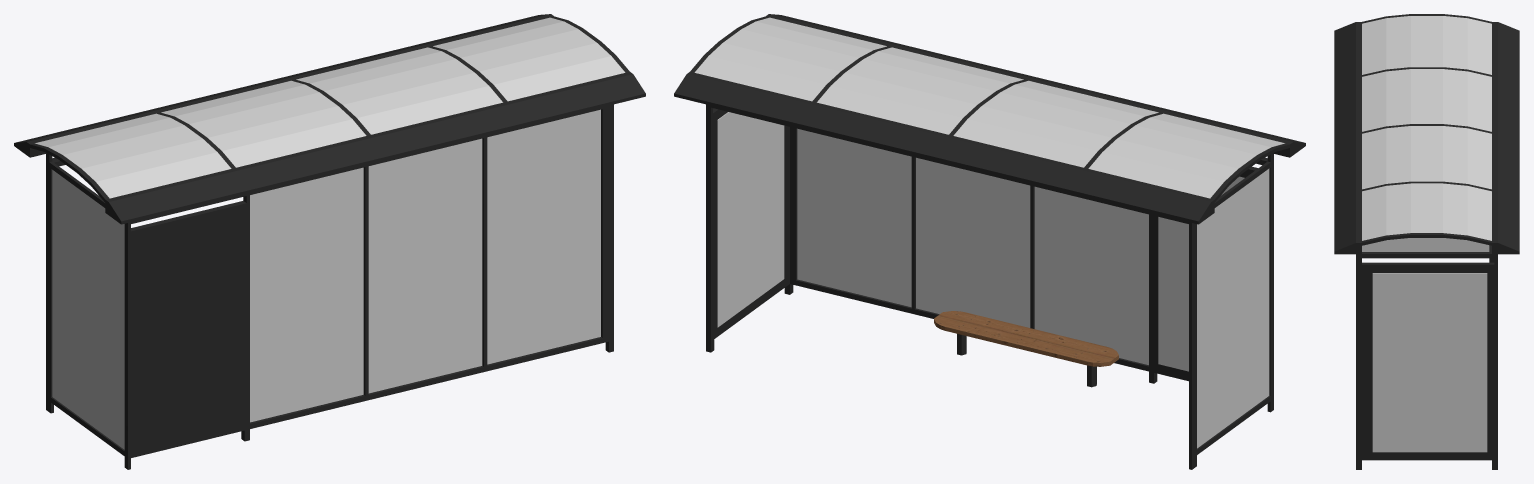
File: shelter_glass.glb
3 views of the same model, side by side, from view 1: azimuth 30°, elevation 25°; view 2: azimuth 150°, elevation 25°; view 3: azimuth 270°, elevation 25° (orthographic). The views are drawn at different scales.
Parts seen in each view (by area): view 1: lawka_w; view 2: lawka_w; view 3: lawka_w.
Boxes of the visible parts, bbox=[...] form: lawka_w: bbox=[14, 14, 645, 469]; lawka_w: bbox=[674, 14, 1305, 469]; lawka_w: bbox=[1334, 14, 1519, 469].
Size of the model in its own units: 5.26 by 2.7 by 1.86.
Materials: 4 (3 with a texture image).
